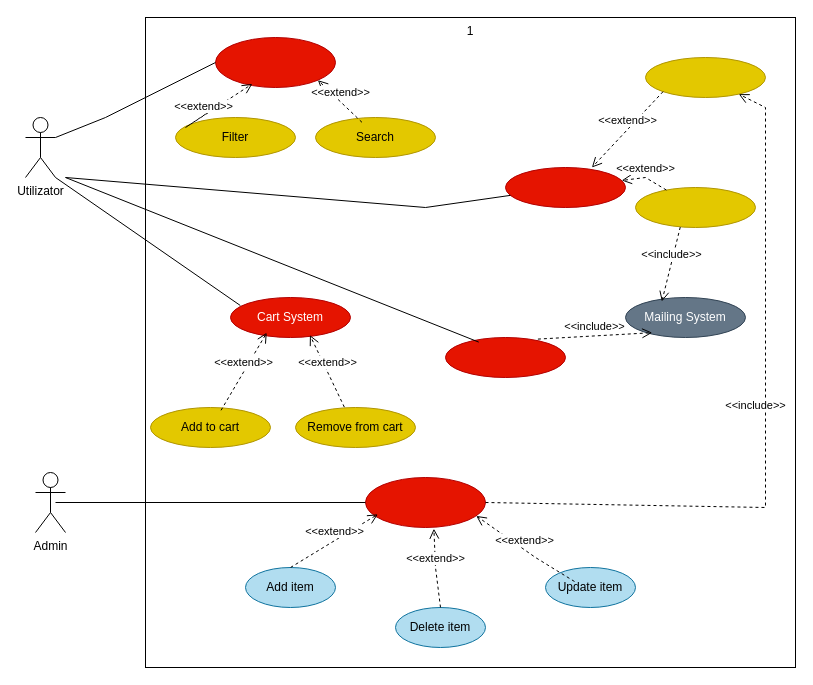
This 813x685 diagram has some shape labels left out. Here are the shapes that lost their labels. From the top down, the centre of each, then its label:
At pixel 275 62: "Products system".
At pixel 705 77: "Login".
At pixel 565 187: "Authentication System".
At pixel 695 207: "Register".
At pixel 505 357: "Checkout System".
At pixel 425 502: "Manage inventory".
